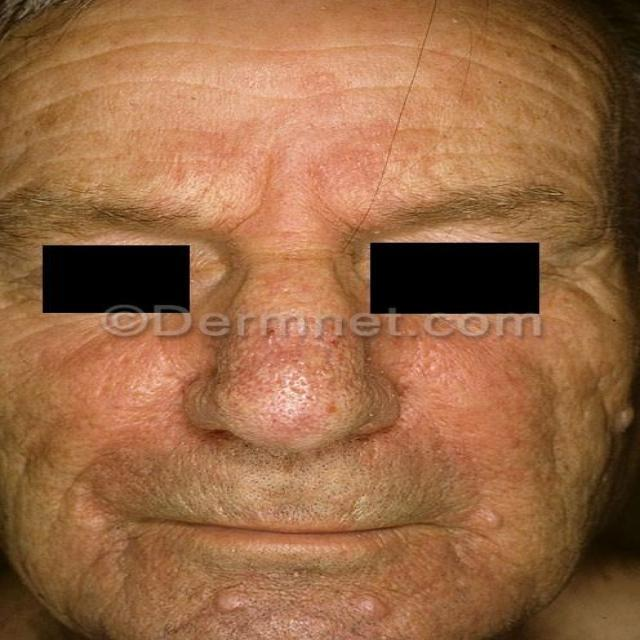Eczema: (82, 328, 488, 439)
